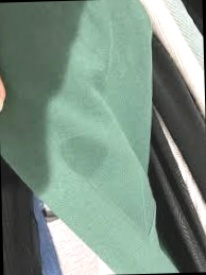oil: (57, 133, 110, 176)
